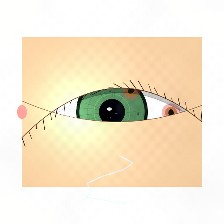foreign_body_visible: (153, 99, 189, 127)
